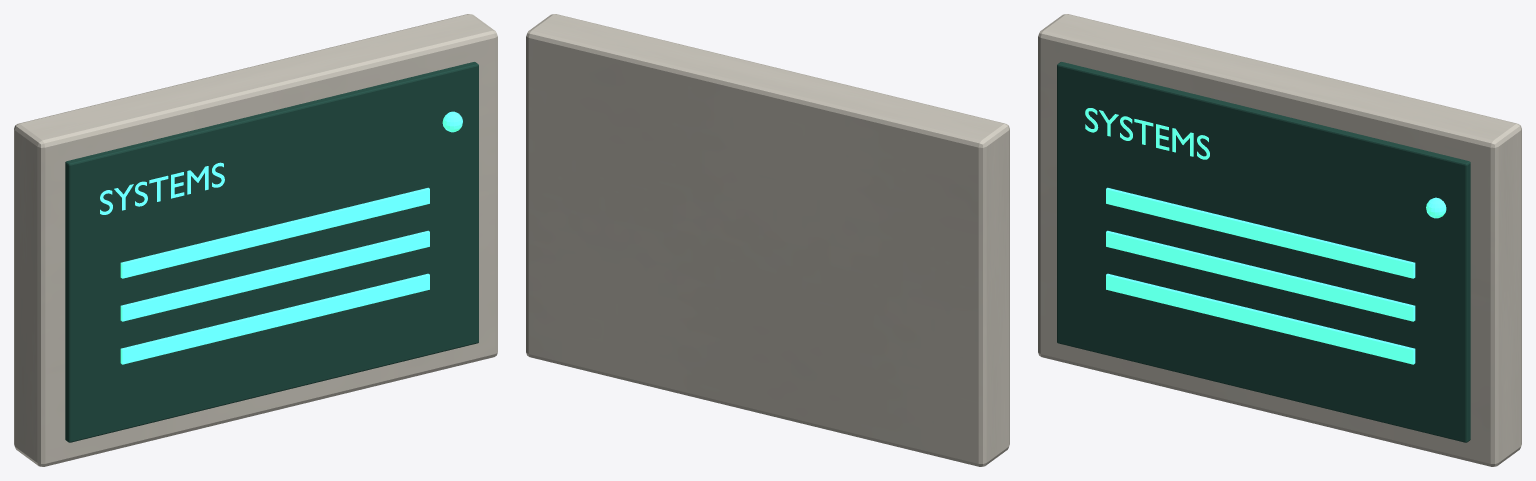
The model's file is animated_control_screen.glb.
3 views of the same model, side by side, from view 1: azimuth 30°, elevation 25°; view 2: azimuth 150°, elevation 25°; view 3: azimuth 330°, elevation 25° (orthographic).
Parts seen in each view (by area): view 1: Glass, Frame.007, AnimatedIndicator_1, AnimatedIndicator_2, AnimatedIndicator_0, LABEL_SYSTEMS; view 2: Frame.007; view 3: Glass, Frame.007, AnimatedIndicator_1, AnimatedIndicator_2, AnimatedIndicator_0, LABEL_SYSTEMS.
Boxes of the visible parts, box(x1,y1,x2,y2) form: Glass: box(65, 62, 478, 442); Frame.007: box(14, 14, 497, 466); AnimatedIndicator_1: box(120, 230, 429, 321); AnimatedIndicator_2: box(120, 273, 429, 364); AnimatedIndicator_0: box(120, 187, 429, 278); LABEL_SYSTEMS: box(100, 162, 224, 214); Frame.007: box(526, 14, 1009, 466); Glass: box(1057, 62, 1470, 442); Frame.007: box(1038, 14, 1521, 466); AnimatedIndicator_1: box(1106, 230, 1415, 321); AnimatedIndicator_2: box(1106, 273, 1415, 364); AnimatedIndicator_0: box(1106, 187, 1415, 278); LABEL_SYSTEMS: box(1085, 108, 1209, 159).
Size of the model in its own units: 1.12 by 0.76 by 0.167.
3 materials, 1 textured.
